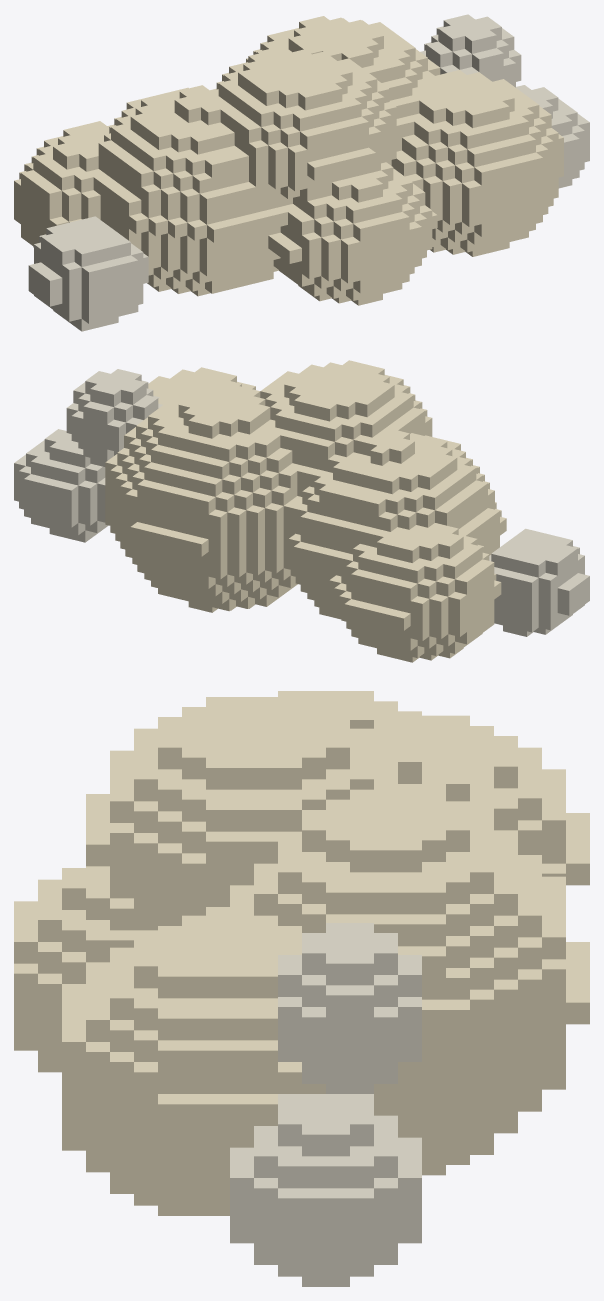
The model's file is wool_staple.glb.
3 views of the same model, one above another, from view 1: azimuth 30°, elevation 25°; view 2: azimuth 150°, elevation 25°; view 3: azimuth 270°, elevation 25° (orthographic). The views are drawn at different scales.
Parts seen in each view (by area): view 1: wool_staple:compound; view 2: wool_staple:compound; view 3: wool_staple:compound.
Part boxes in pixels (x1,y1,x2,y2): wool_staple:compound: [14, 14, 589, 331]; wool_staple:compound: [14, 360, 589, 662]; wool_staple:compound: [14, 691, 589, 1286].
Size of the model in its own units: 0.18 by 0.064 by 0.096.
